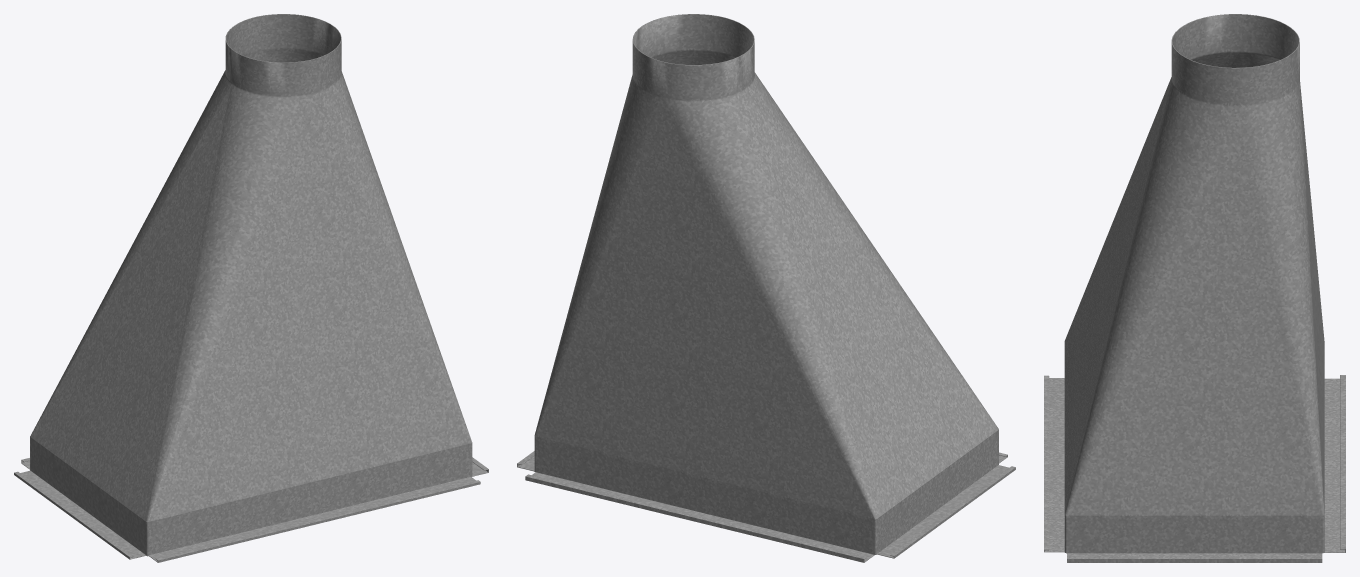
Rendered from Vent_5.glb.
3 views of the same model, side by side, from view 1: azimuth 30°, elevation 25°; view 2: azimuth 150°, elevation 25°; view 3: azimuth 270°, elevation 25° (orthographic). The views are drawn at different scales.
Parts seen in each view (by area): view 1: Cube003; view 2: Cube003; view 3: Cube003.
Part boxes in pixels (x1,y1,x2,y2): Cube003: [14, 14, 488, 562]; Cube003: [517, 14, 1015, 562]; Cube003: [1044, 14, 1345, 562].
Bounding box in the file's own units: 0.4407 × 0.4807 × 0.2907.
1 material, 1 textured.
